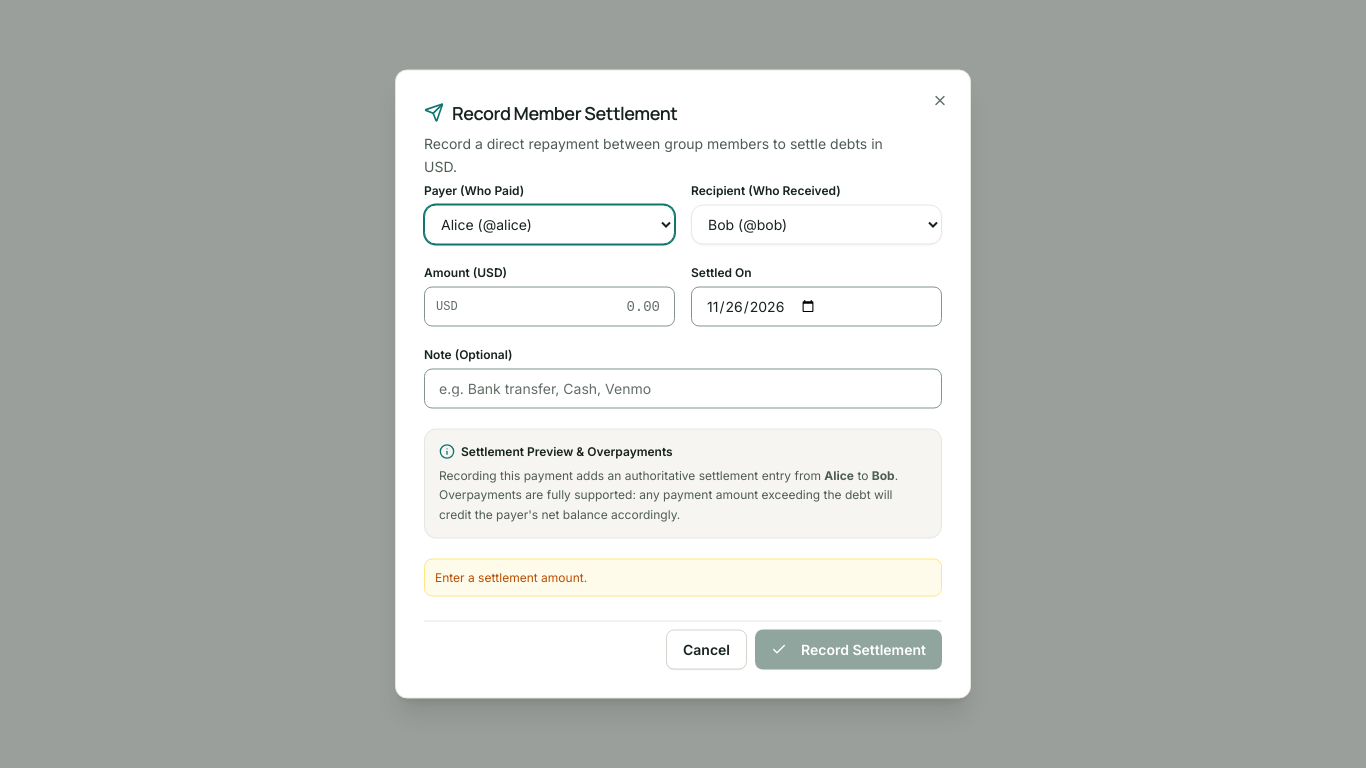
Test: Settlements Frontend Tests › RecordSettlementDialog Component › validates that payer and recipient cannot be the same user
The width and height of the screenshot is (1366, 768).
Step 1. Select "Bob (@bob)" in the dropdown labelled "Payer (Who Paid)" → (550, 224), box [424,204,675,244]
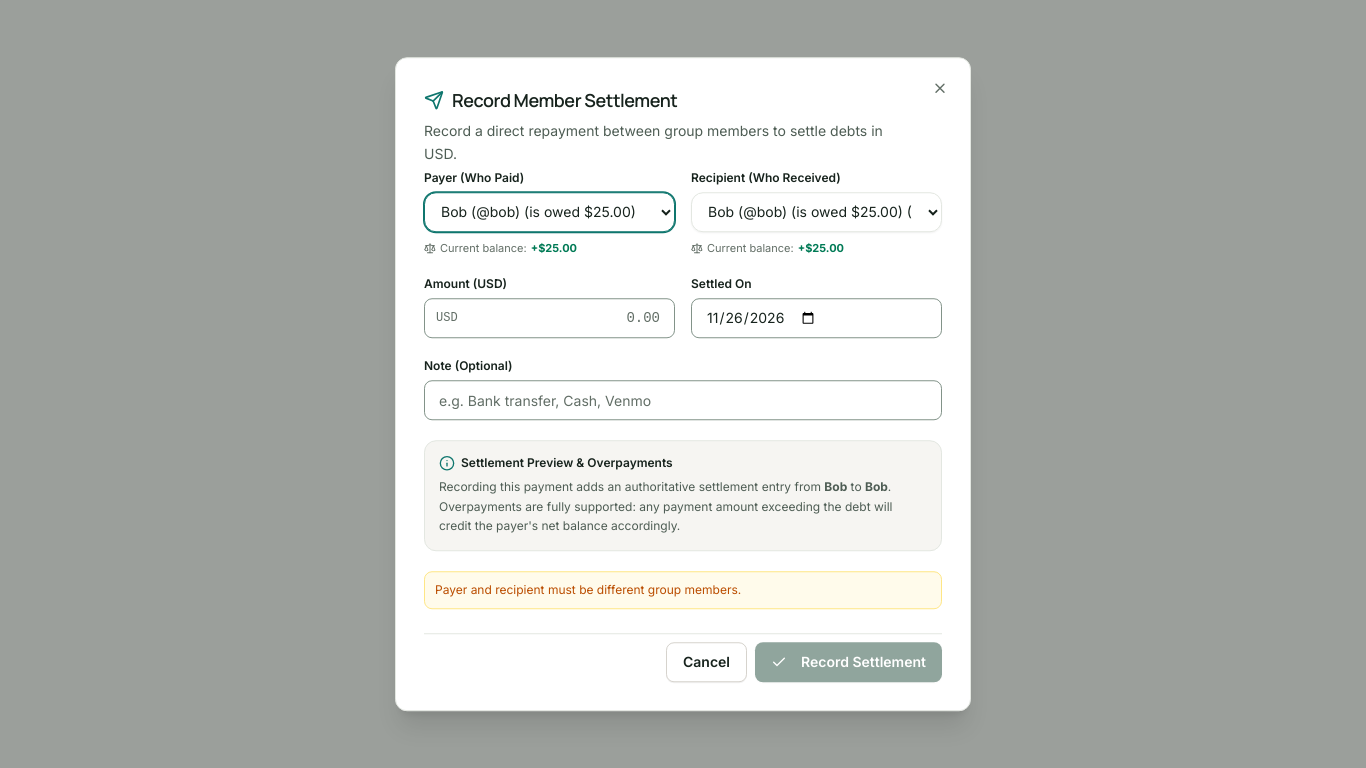
Expected: the button "Record Settlement" is disabled, [755,642,942,682]
Now the text "Payer and recipient must be different group members." is shown, box [424,571,942,609]
